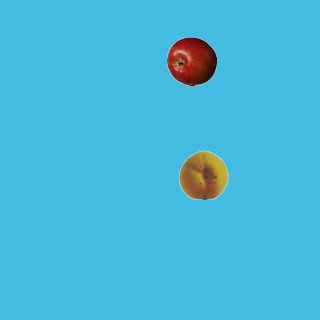Apple Braeburn: (166, 36, 216, 86)
Peach 2: (178, 149, 228, 199)
